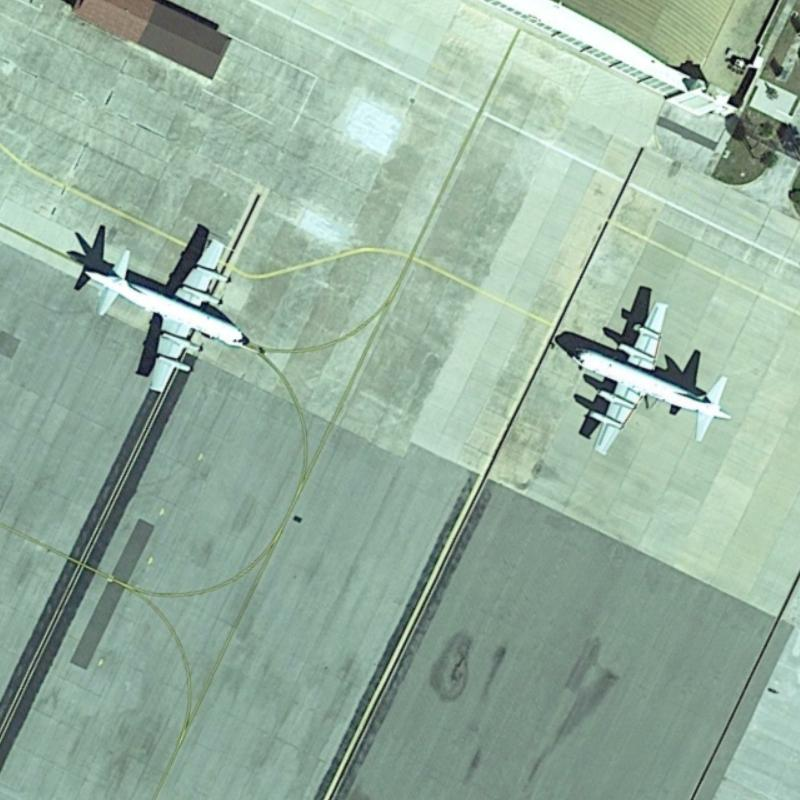A9: (561, 293, 737, 460), (80, 230, 253, 398)
